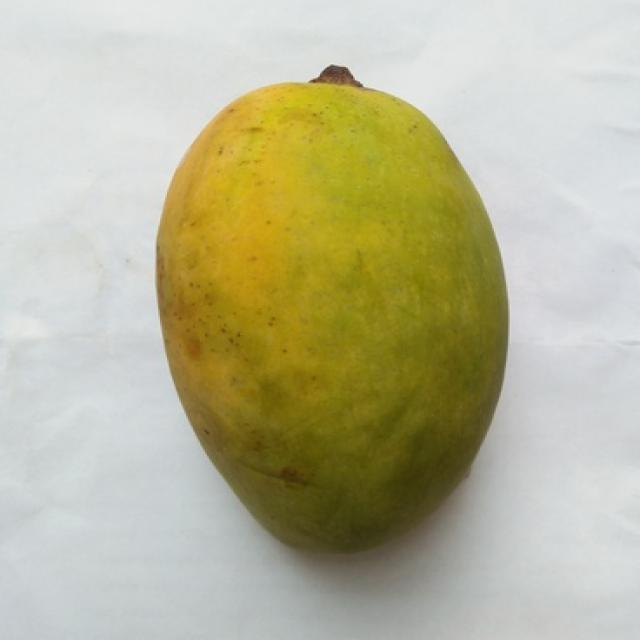Mango: (157, 81, 506, 550)
